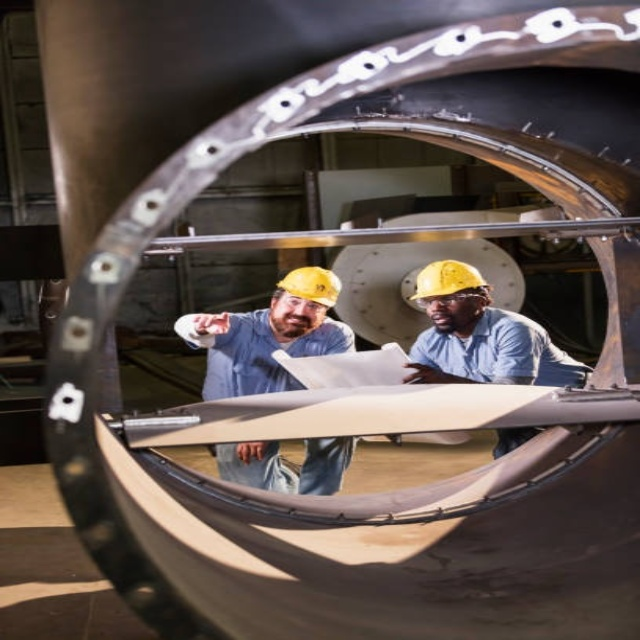Gafas: (278, 292, 333, 313), (420, 292, 483, 307)
Sin_guantes: (402, 362, 453, 385), (192, 312, 231, 335), (235, 441, 270, 465)
Sin_mascara: (278, 315, 307, 330), (430, 313, 453, 328)
